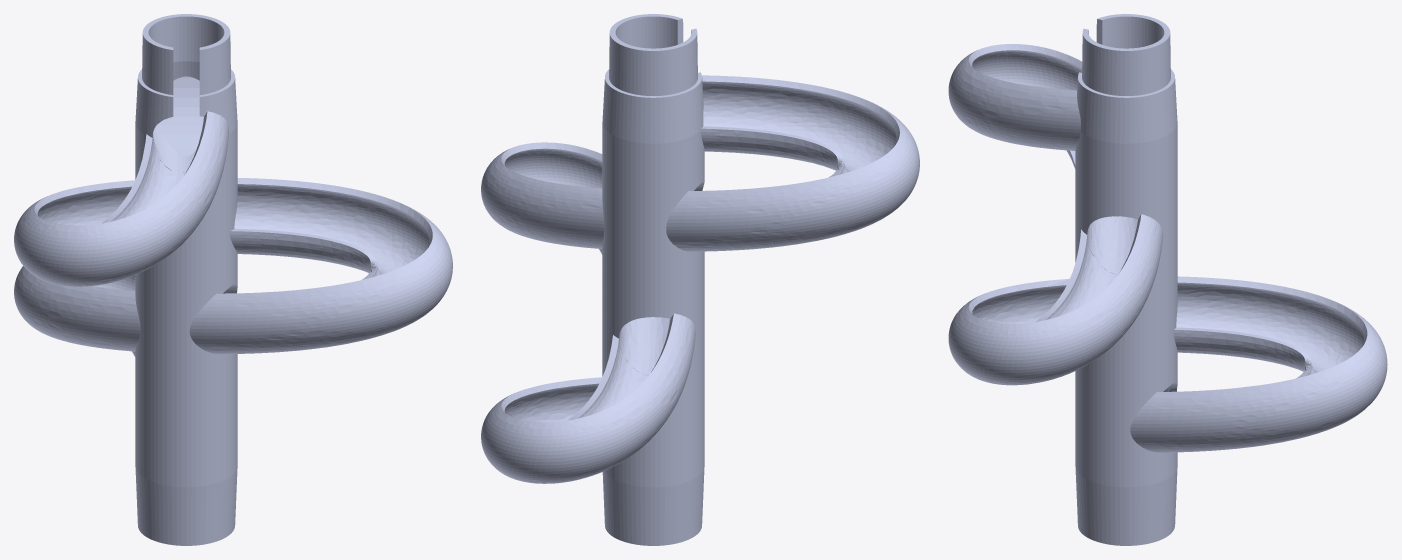
The model's file is Hypotrochoid.FBX.
The picture shows the model from 3 angles, left to right: view 1: azimuth 30°, elevation 25°; view 2: azimuth 150°, elevation 25°; view 3: azimuth 270°, elevation 25°; orthographic projection.
Visible parts, largest first — view 1: Hypotrochoid.SLDPRT|:|3064854E8BB9AC8AC46B8AFBD0E97A04DBCD0F; view 2: Hypotrochoid.SLDPRT|:|3064854E8BB9AC8AC46B8AFBD0E97A04DBCD0F; view 3: Hypotrochoid.SLDPRT|:|3064854E8BB9AC8AC46B8AFBD0E97A04DBCD0F.
Boxes of the visible parts, x1=… form: Hypotrochoid.SLDPRT|:|3064854E8BB9AC8AC46B8AFBD0E97A04DBCD0F: x1=14, y1=14, x2=452, y2=545; Hypotrochoid.SLDPRT|:|3064854E8BB9AC8AC46B8AFBD0E97A04DBCD0F: x1=481, y1=14, x2=919, y2=545; Hypotrochoid.SLDPRT|:|3064854E8BB9AC8AC46B8AFBD0E97A04DBCD0F: x1=948, y1=14, x2=1387, y2=545.
Bounding box in the file's own units: 5.73 × 5.24 × 6.5.
